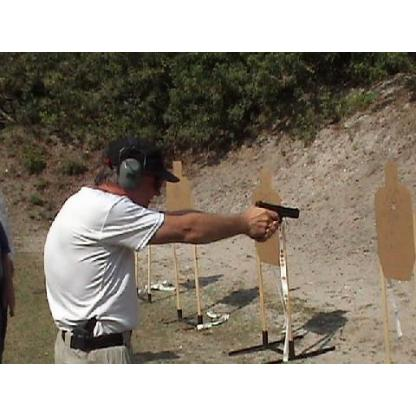gun: (252, 202, 300, 240)
